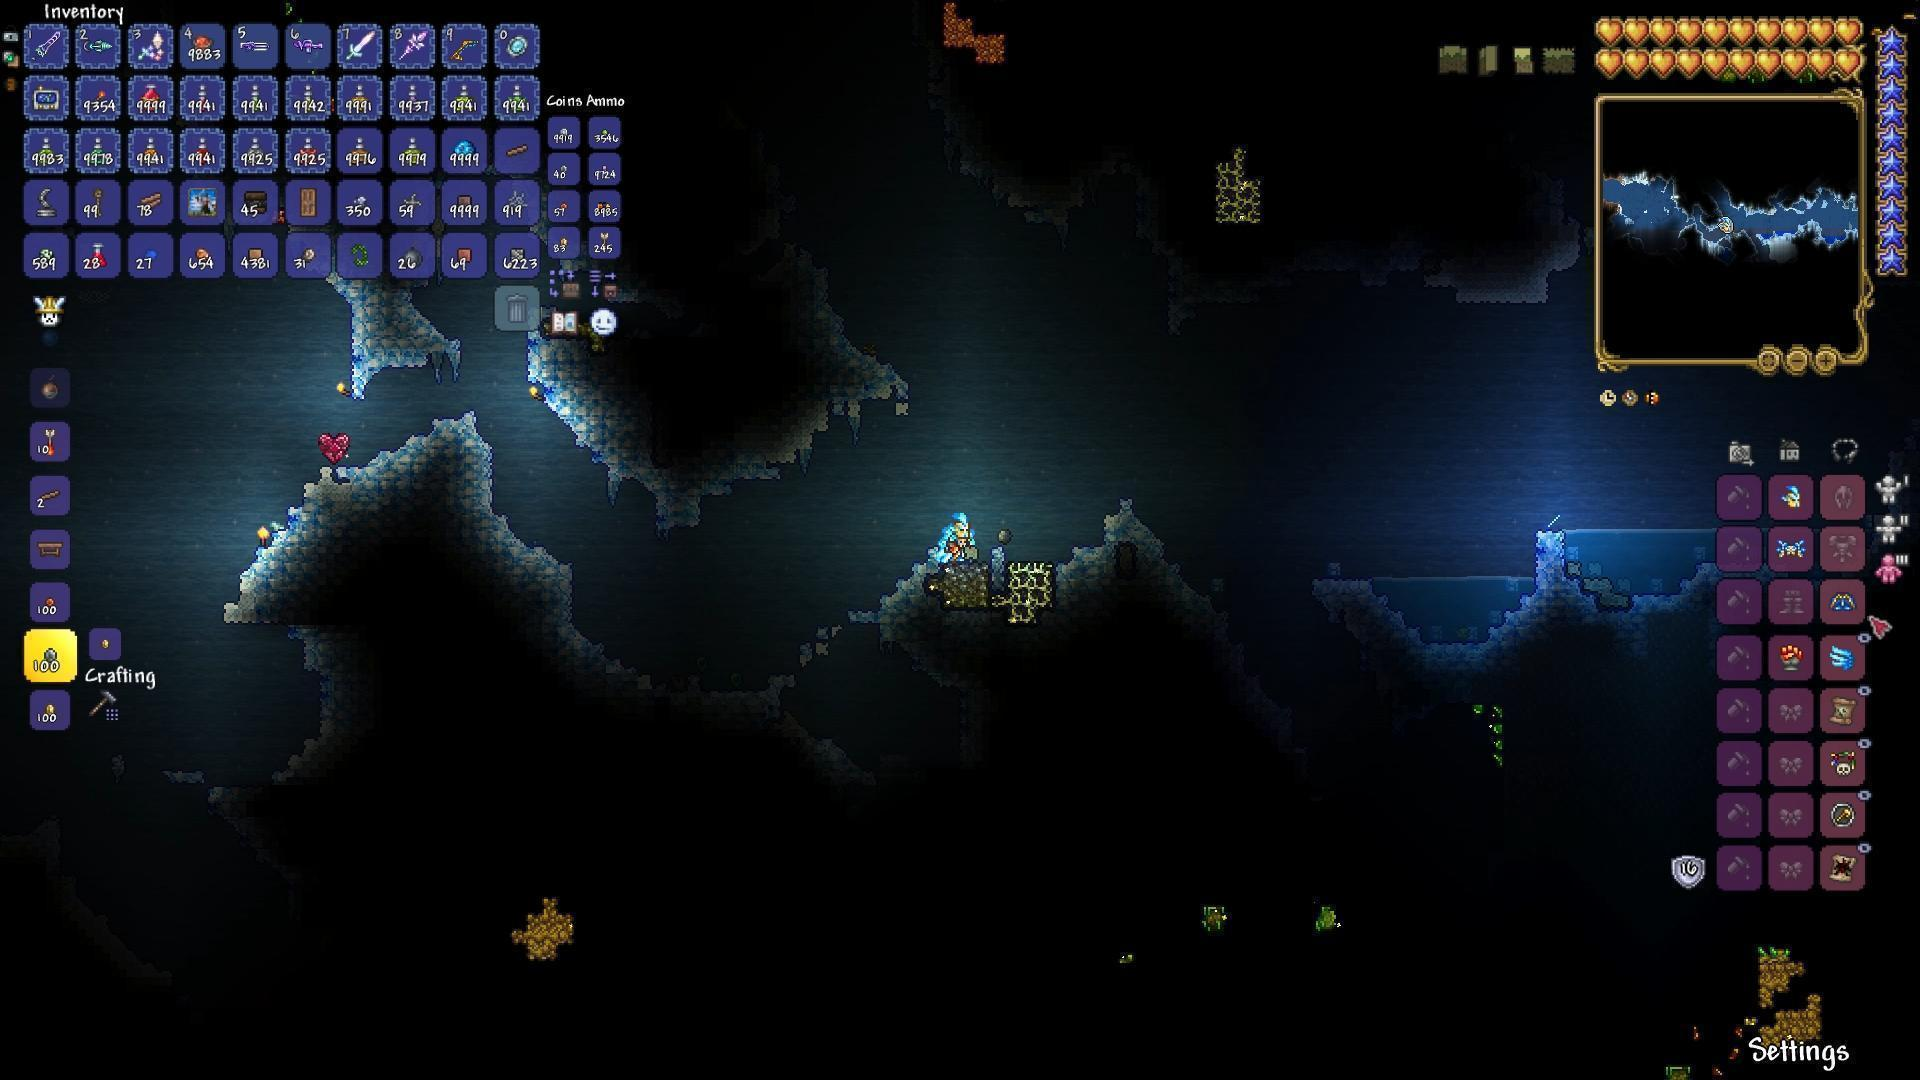wood: (140, 189, 164, 214)
workbench: (36, 534, 69, 562)
